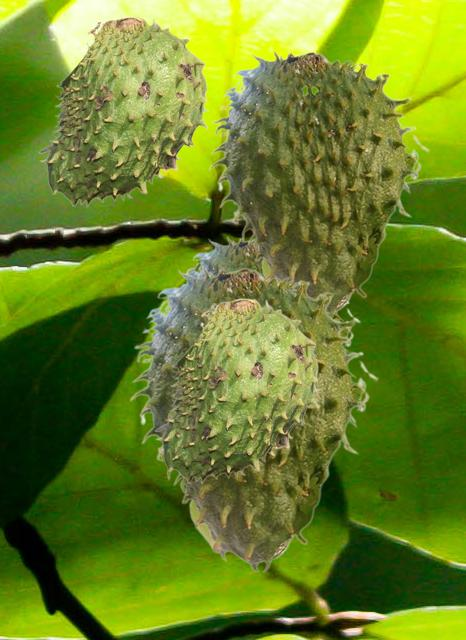guyabano: (129, 266, 378, 572), (208, 50, 429, 317), (38, 16, 208, 206), (154, 298, 319, 483), (180, 236, 360, 348)
